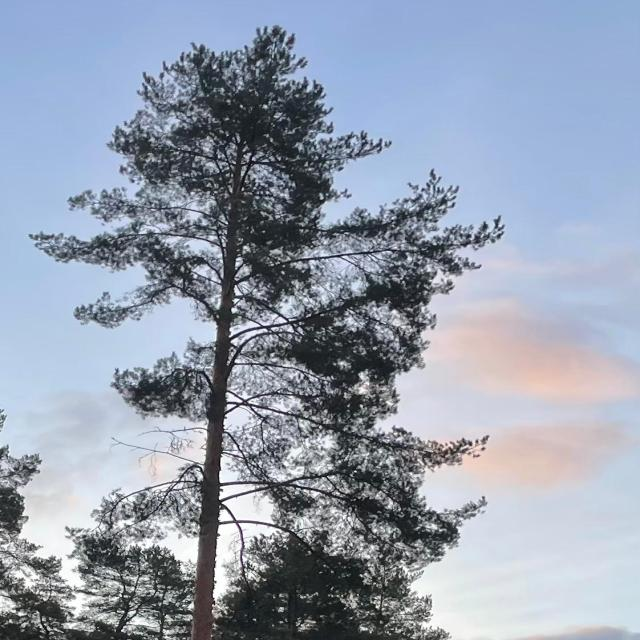pine: (19, 19, 515, 636)
